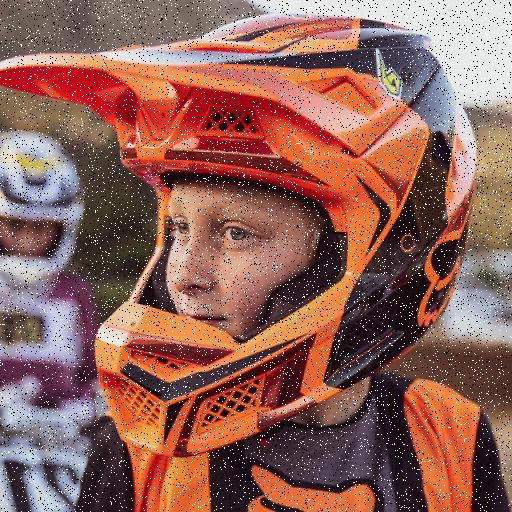Helmet: (0, 16, 475, 455), (0, 131, 83, 292)
